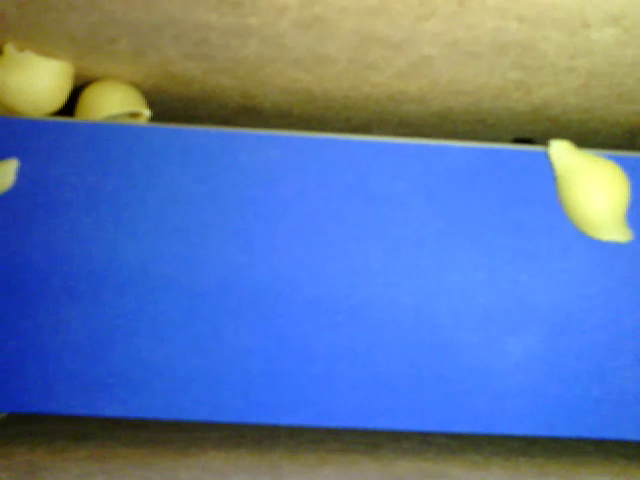shell: (546, 140, 634, 243), (1, 42, 74, 115), (76, 79, 151, 121)
